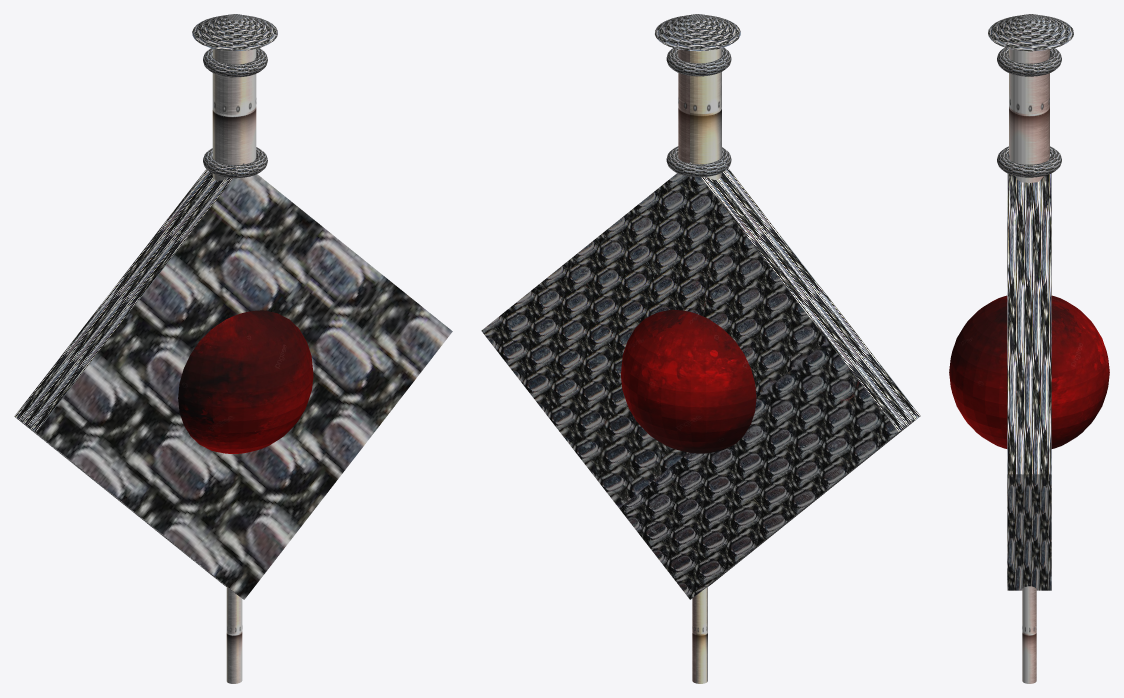
The model's file is Amuleto.fbx.
The picture shows the model from 3 angles, left to right: view 1: azimuth 30°, elevation 25°; view 2: azimuth 150°, elevation 25°; view 3: azimuth 270°, elevation 25°; orthographic projection.
Parts seen in each view (by area): view 1: Cube, Sphere, Cylinder, Cylinder.002, Cylinder.001, Torus, Torus.001; view 2: Cube, Sphere, Cylinder, Cylinder.002, Cylinder.001, Torus, Torus.001; view 3: Cube, Sphere, Cylinder, Cylinder.002, Cylinder.001, Torus, Torus.001.
Boxes of the visible parts, left/top/right/bottom form: Cube: left=14, top=163, right=452, bottom=599; Sphere: left=178, top=310, right=313, bottom=453; Cylinder: left=212, top=48, right=256, bottom=180; Cylinder.002: left=192, top=14, right=277, bottom=50; Cylinder.001: left=226, top=587, right=242, bottom=683; Torus: left=203, top=147, right=267, bottom=178; Torus.001: left=203, top=48, right=267, bottom=77; Cube: left=481, top=162, right=920, bottom=599; Sphere: left=621, top=309, right=756, bottom=453; Cylinder: left=678, top=48, right=721, bottom=179; Cylinder.002: left=655, top=14, right=740, bottom=51; Cylinder.001: left=692, top=587, right=707, bottom=683; Torus: left=666, top=146, right=731, bottom=177; Torus.001: left=666, top=47, right=731, bottom=76; Cube: left=1007, top=154, right=1051, bottom=590; Sphere: left=949, top=295, right=1109, bottom=448; Cylinder: left=1009, top=48, right=1049, bottom=182; Cylinder.002: left=988, top=14, right=1073, bottom=51; Cylinder.001: left=1022, top=586, right=1036, bottom=683; Torus: left=997, top=146, right=1061, bottom=177; Torus.001: left=997, top=47, right=1061, bottom=76.
Bounding box in the file's own units: 281 × 427 × 93.72.
Materials: 7 (7 with a texture image).
